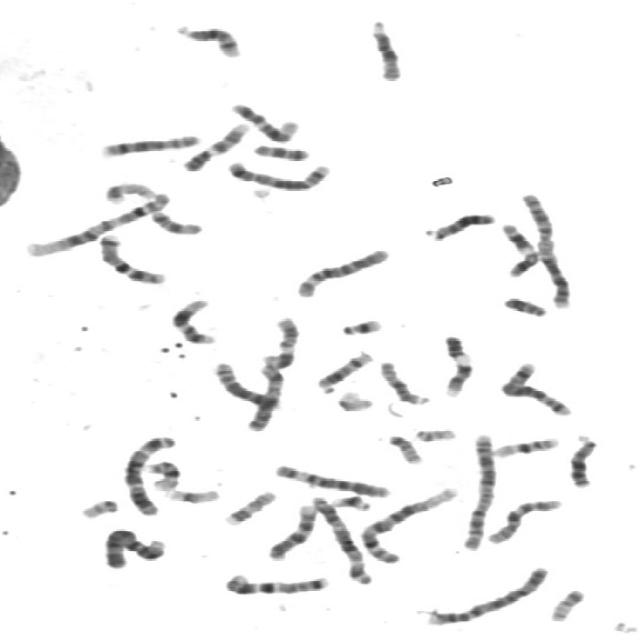A1: (18, 186, 174, 259), (354, 482, 463, 566)
A2: (517, 188, 577, 310), (456, 428, 502, 550)
A3: (305, 491, 377, 585), (117, 430, 181, 517)
B4: (422, 560, 553, 628), (97, 522, 171, 570)
B5: (496, 358, 575, 417), (223, 156, 335, 192)
C10: (482, 492, 566, 546), (263, 499, 320, 561)
C11: (496, 218, 543, 278), (256, 312, 304, 370)
C12: (225, 98, 304, 144), (166, 294, 222, 345)
C6: (291, 243, 394, 299), (268, 459, 395, 498)
C7: (93, 228, 171, 286), (219, 569, 334, 596)
C8: (209, 358, 286, 412), (94, 128, 205, 158)
C9: (177, 118, 253, 172), (437, 330, 478, 398)
D13: (422, 207, 499, 241), (564, 429, 602, 489)
D14: (313, 346, 377, 394), (170, 20, 246, 58)
D15: (374, 356, 435, 406), (364, 15, 406, 82)
E16: (488, 432, 564, 458), (140, 456, 184, 492)
E17: (219, 486, 280, 526), (98, 178, 160, 205)
E18: (146, 206, 208, 237), (249, 138, 314, 162)
F19: (159, 482, 225, 506), (332, 386, 378, 412)
F20: (545, 583, 590, 623), (383, 430, 427, 466)
G21: (335, 313, 387, 337), (326, 489, 375, 512)
G22: (75, 493, 123, 520), (409, 422, 461, 443)
X: (242, 361, 288, 432)
Y: (498, 292, 552, 318)
